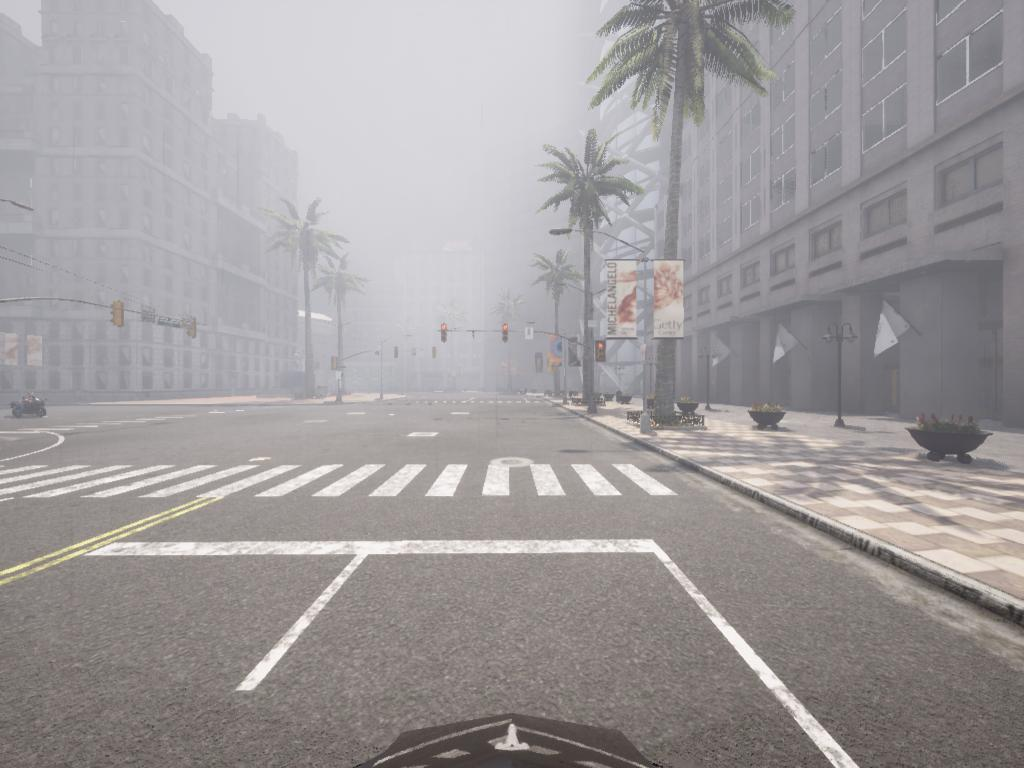traffic_light: (110, 303, 123, 330), (597, 340, 606, 364), (189, 318, 198, 342), (535, 354, 544, 375), (502, 325, 510, 341), (442, 325, 449, 340), (432, 347, 438, 362), (394, 347, 399, 361)
